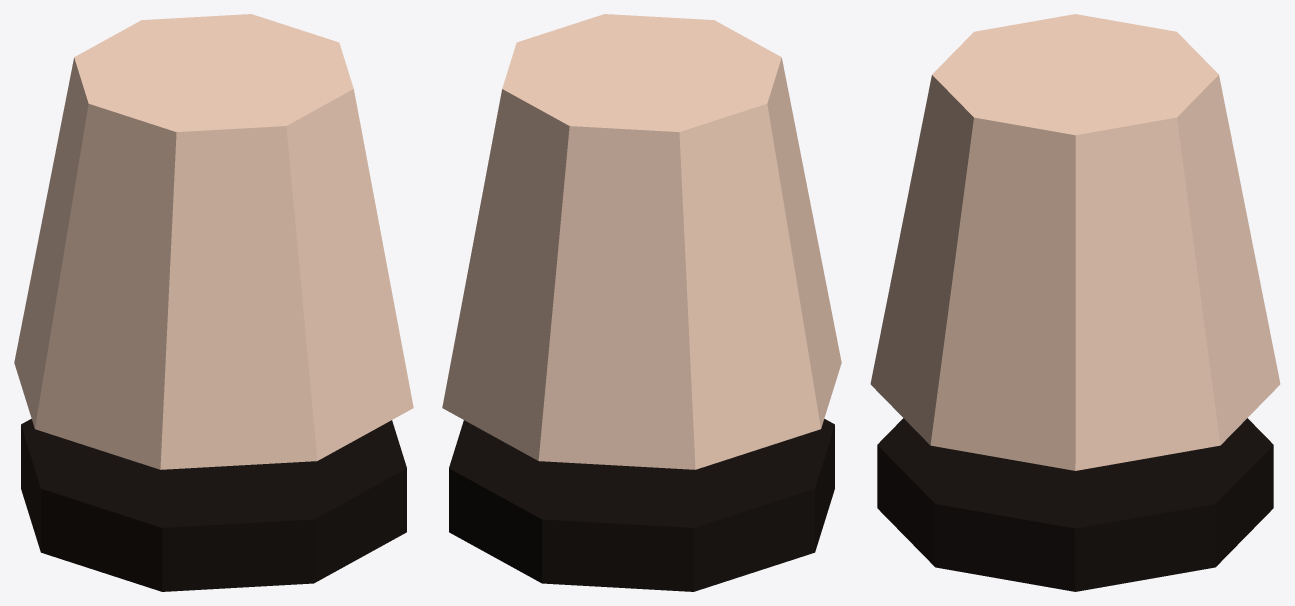
Rendered from M_LS_TableLight.fbx.
The picture shows the model from 3 angles, left to right: view 1: azimuth 30°, elevation 25°; view 2: azimuth 150°, elevation 25°; view 3: azimuth 270°, elevation 25°; orthographic projection.
Parts seen in each view (by area): view 1: TableLight; view 2: TableLight; view 3: TableLight.
Boxes of the visible parts, x1=… form: TableLight: x1=14, y1=14, x2=413, y2=591; TableLight: x1=442, y1=14, x2=841, y2=591; TableLight: x1=870, y1=14, x2=1280, y2=591.
Bounding box in the file's own units: 63.75 × 74.37 × 63.75.
Materials: 1 (1 with a texture image).
